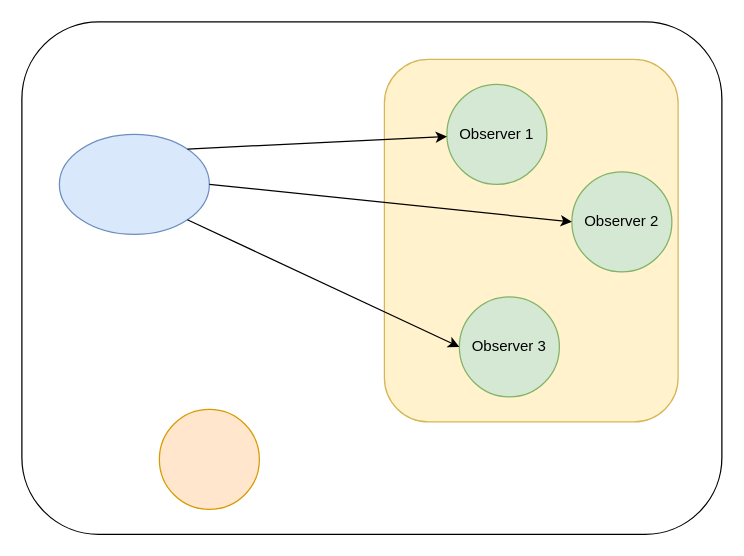
This 744x556 diagram has some shape labels left out. Here are the shapes that lost their labels. From the top down, the box of each, then its label:
(58, 133, 209, 234): Subject
(158, 408, 259, 509): Object khác
